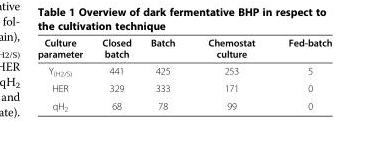table: (36, 36, 331, 112)
table column: (190, 36, 271, 112), (271, 36, 331, 112), (36, 36, 91, 112), (140, 36, 190, 112), (91, 36, 140, 112)
table column header: (36, 36, 331, 62)
table row: (36, 36, 331, 62), (36, 62, 331, 79), (36, 79, 331, 96), (36, 96, 331, 112)
